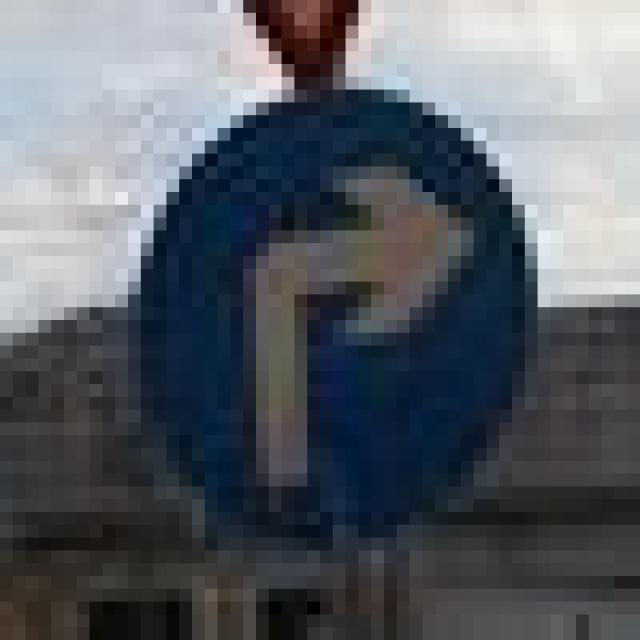TURN_RIGHT: (115, 76, 525, 538)
